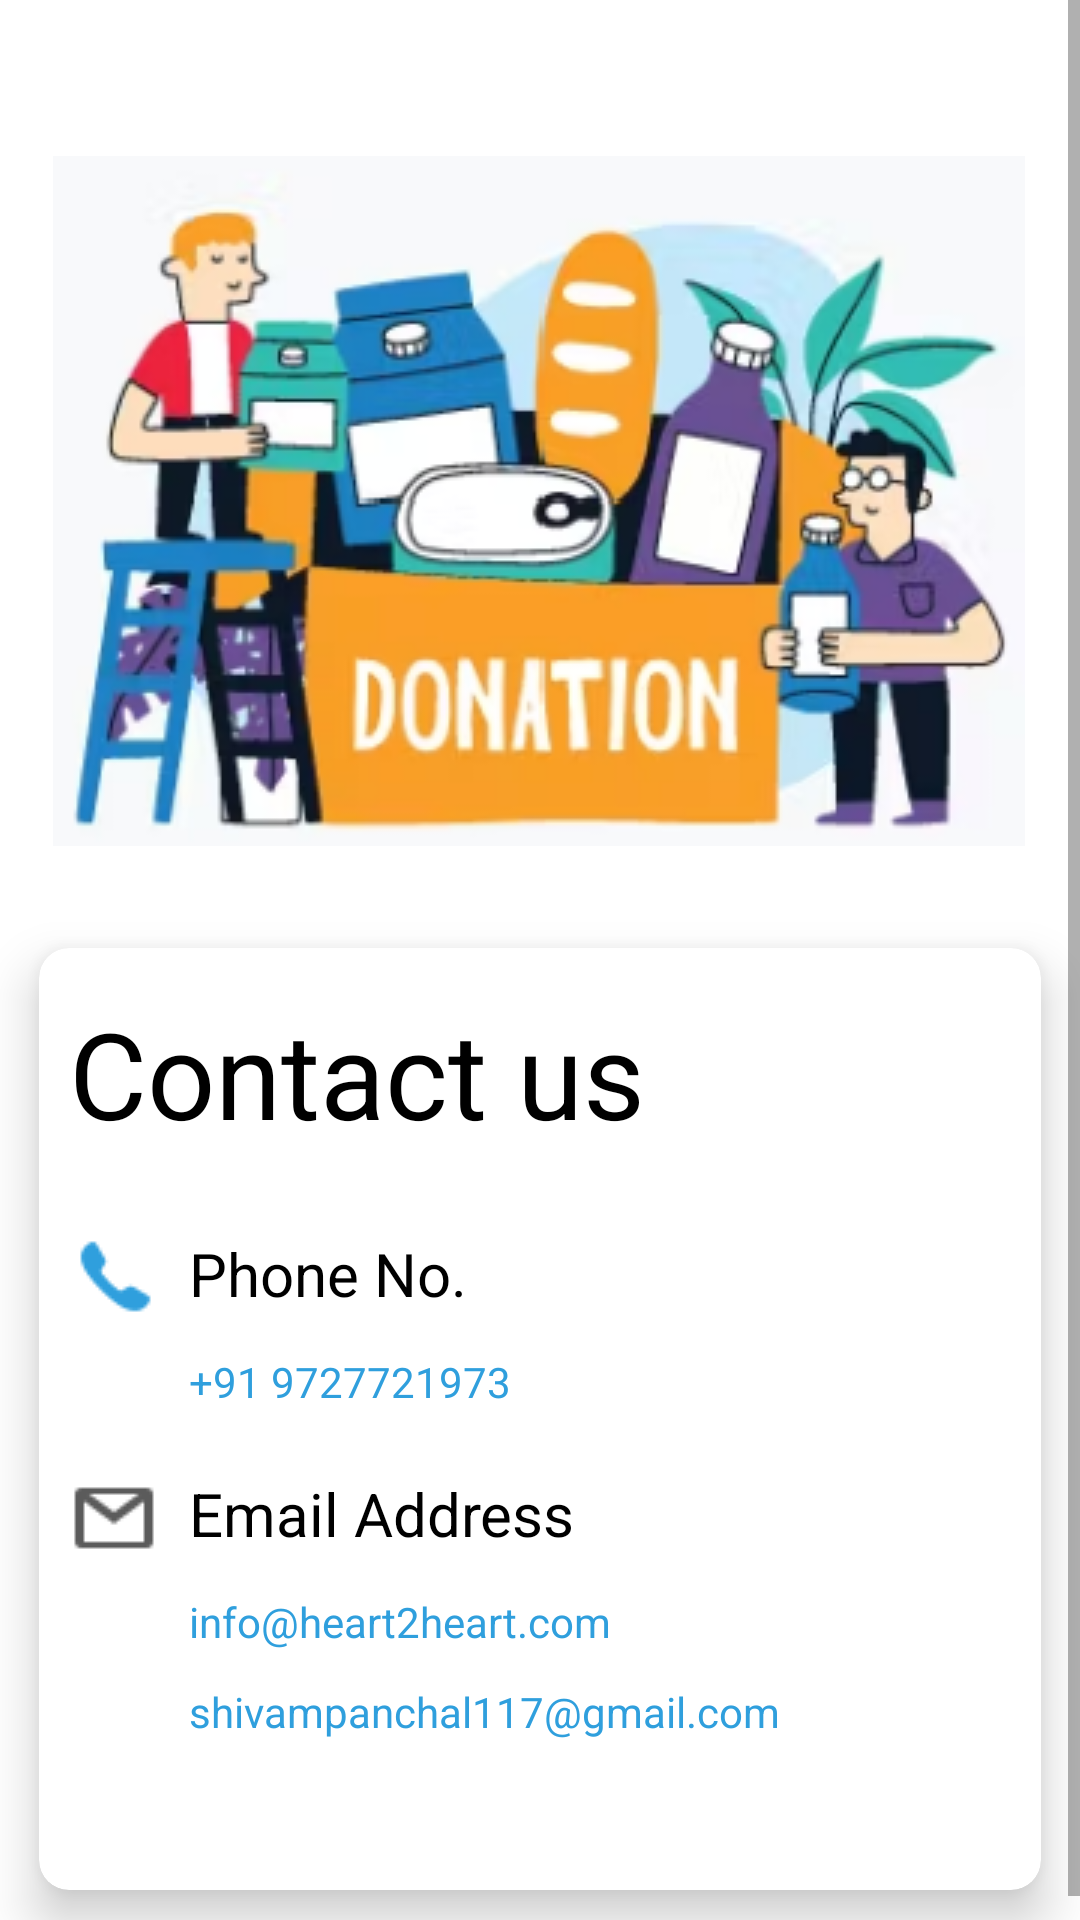

Icons on this 1080 x 1920 Android screen, each with its box as (x1, y1, x2, y2):
phonecall: (80, 1241, 151, 1312)
